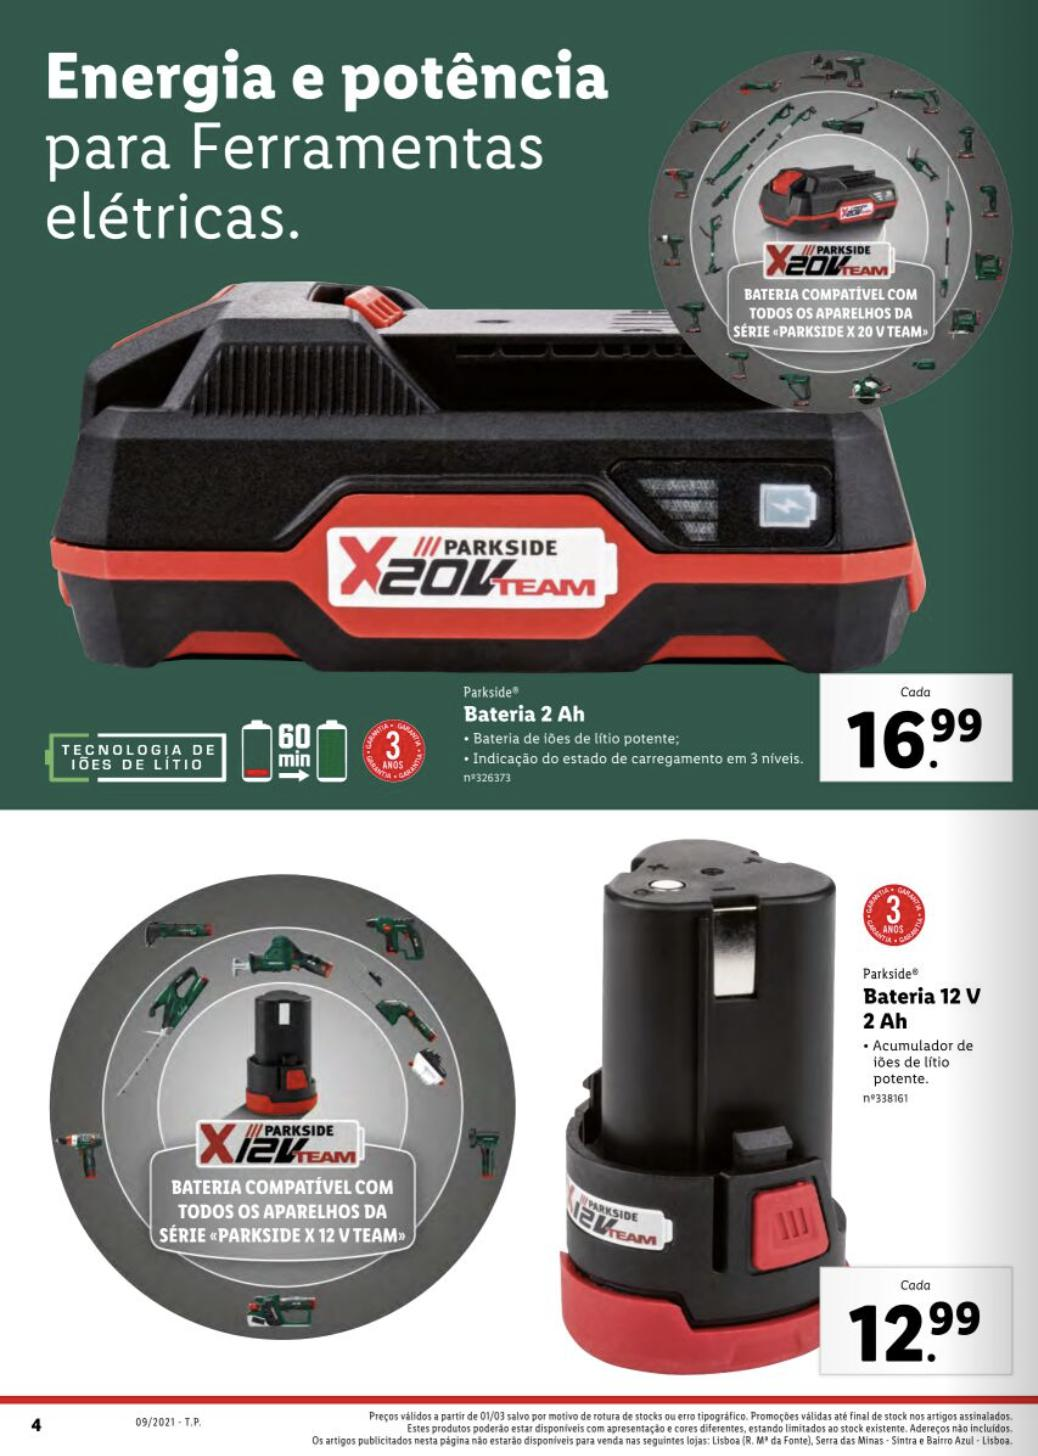name: (855, 982, 986, 1034), (457, 700, 591, 729)
price: (844, 703, 991, 779), (849, 1298, 987, 1369)
product: (13, 22, 1026, 811), (15, 818, 1037, 1383)
